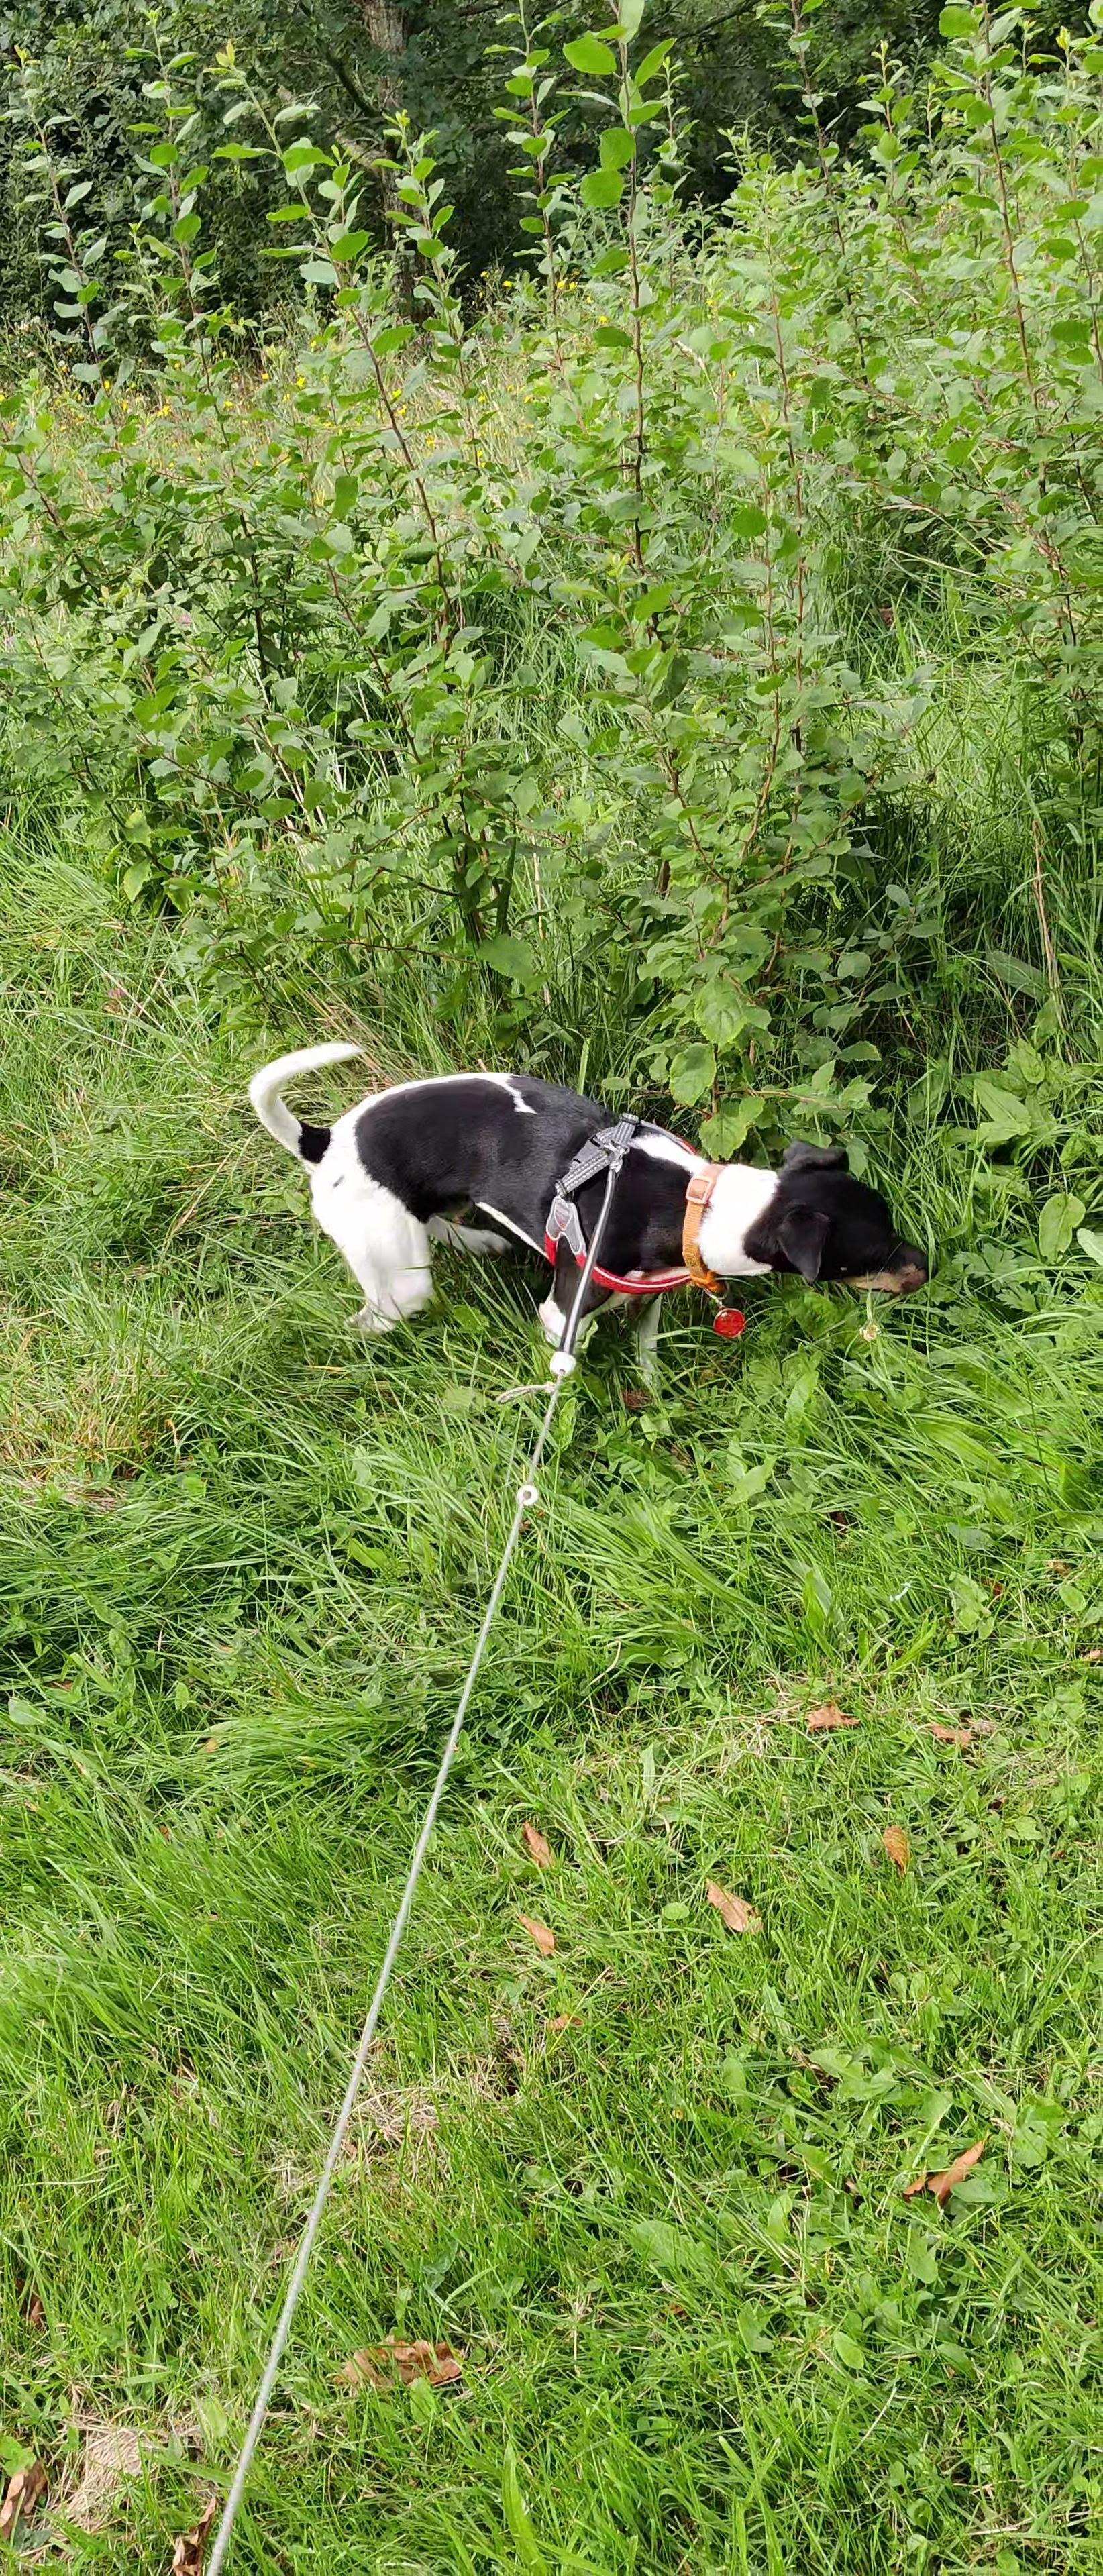Dog: (238, 1038, 942, 1388)
